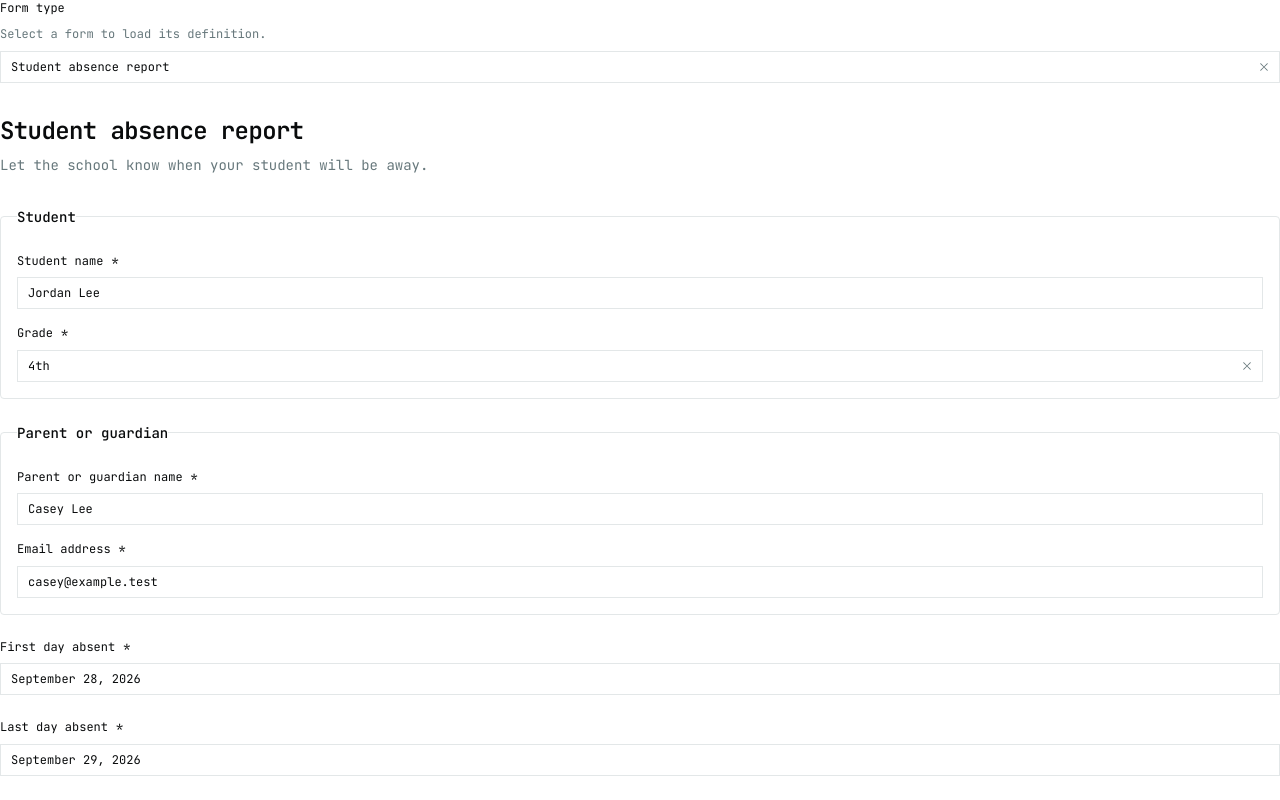
Test case: #FormsPageContent › continues to protect dirty answers when switching forms after a failed submission
Type " Jr." into the field labelled "Student name *". click: (640, 293)
box: 17,277 -> 1263,309
(page scrolled)
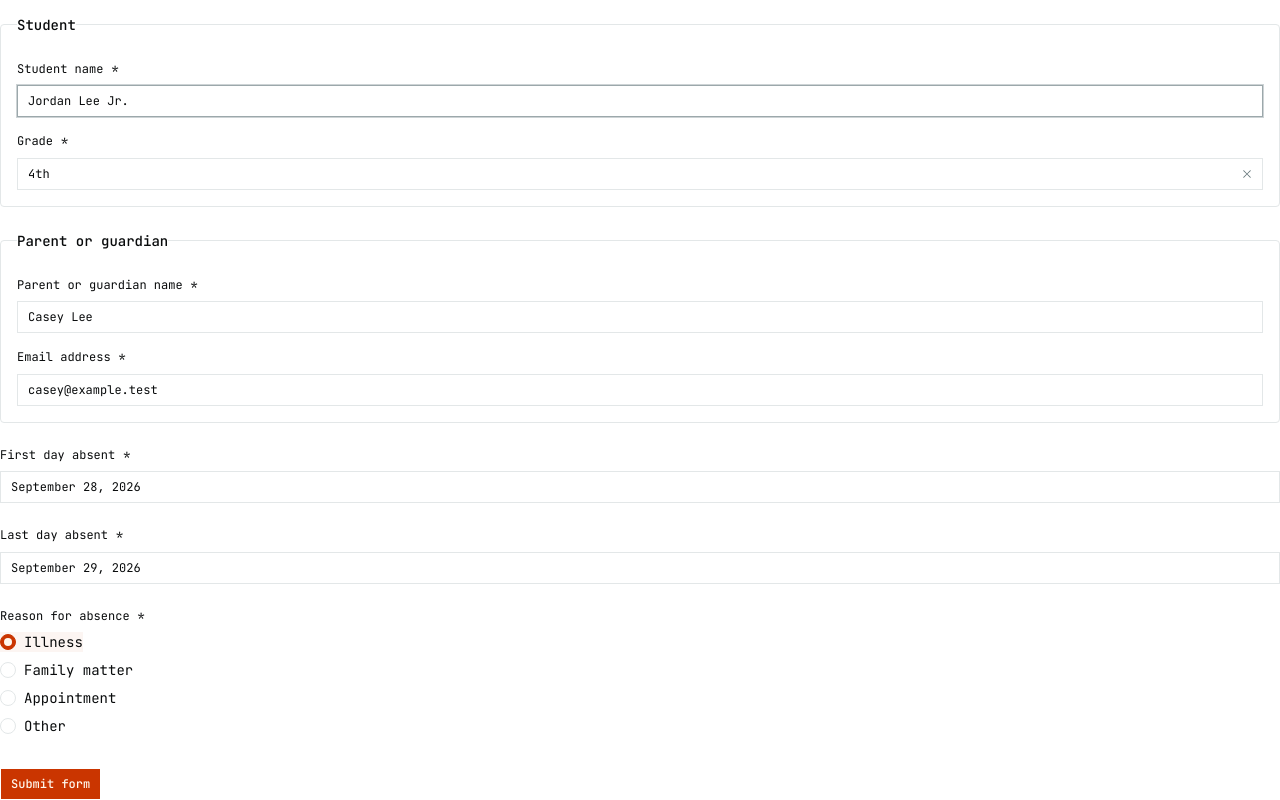
Click the button "Submit form". click: (51, 784)
box: 0,768 -> 101,799
(page scrolled)
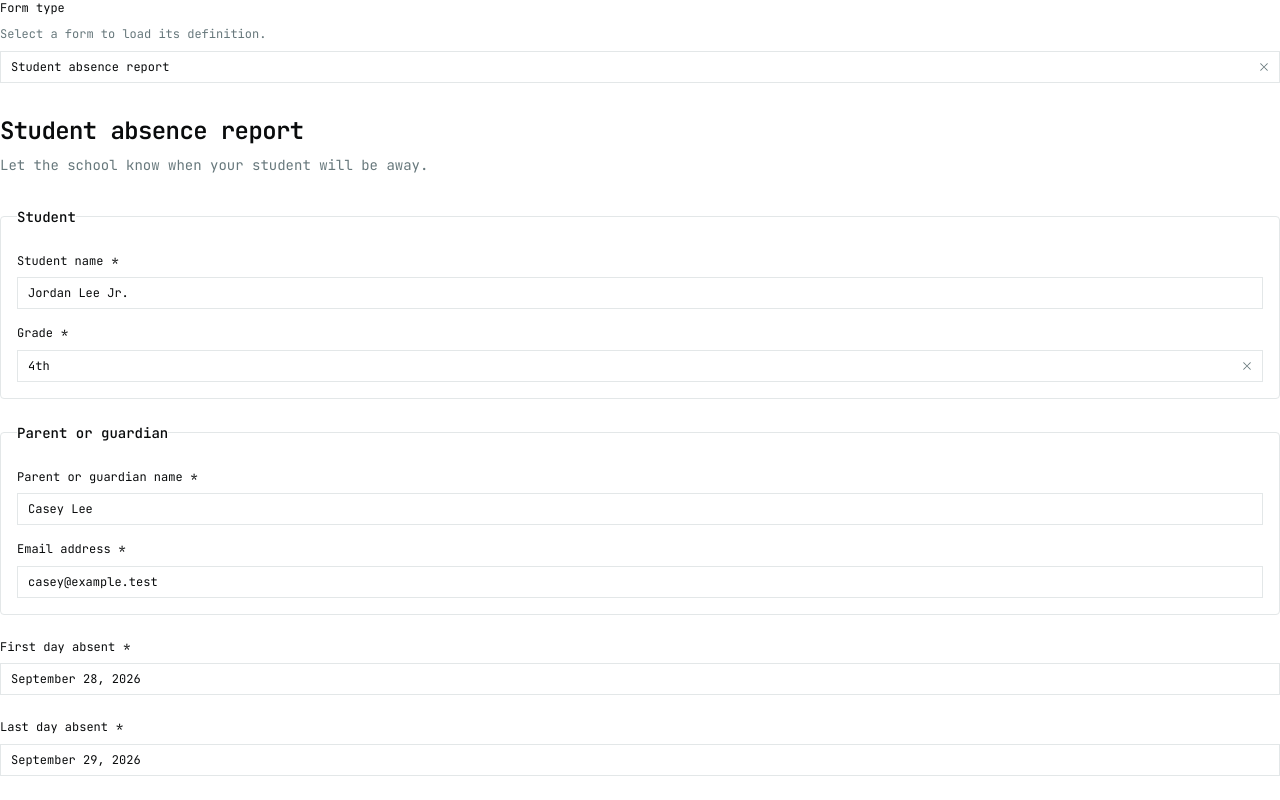
Click the dropdown labelled "Form type". click: (626, 66)
box: 1,50 -> 1252,82
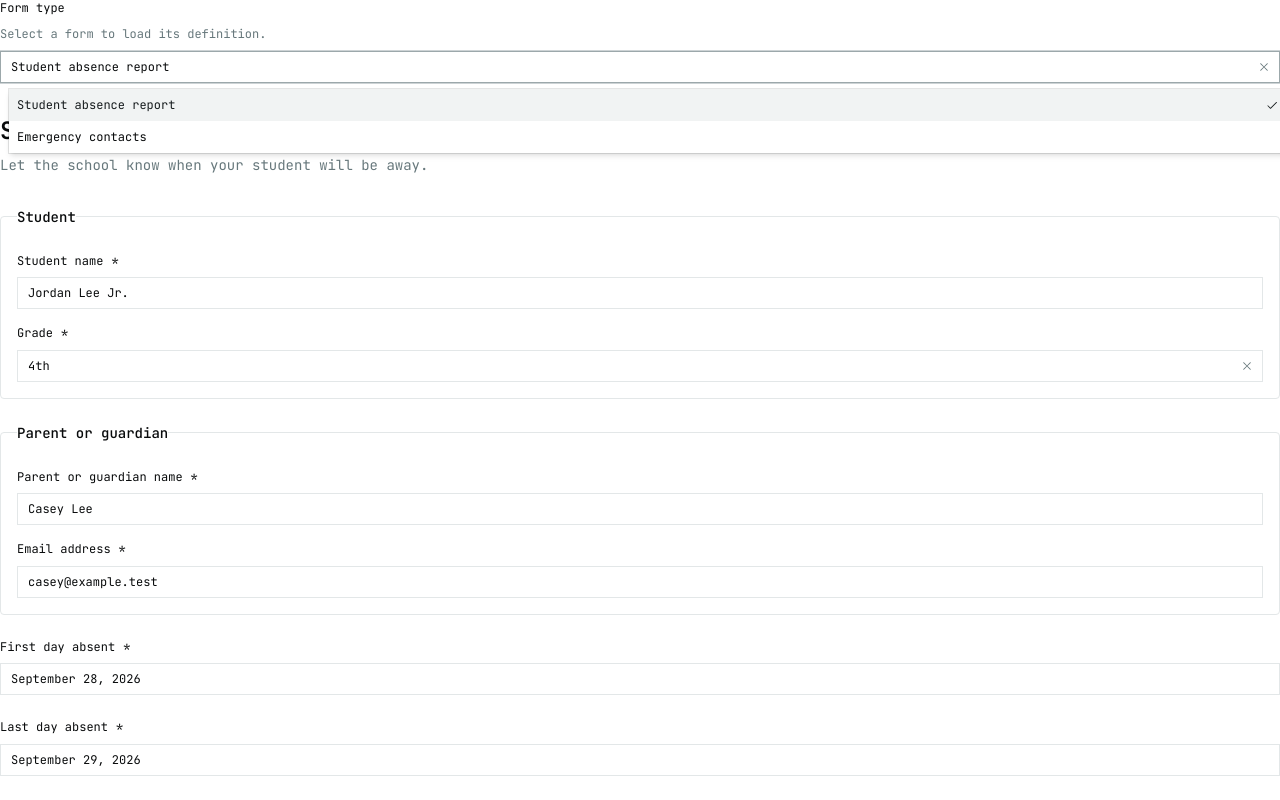
Click the option "Emergency contacts". click: (82, 137)
box: 17,129 -> 147,145
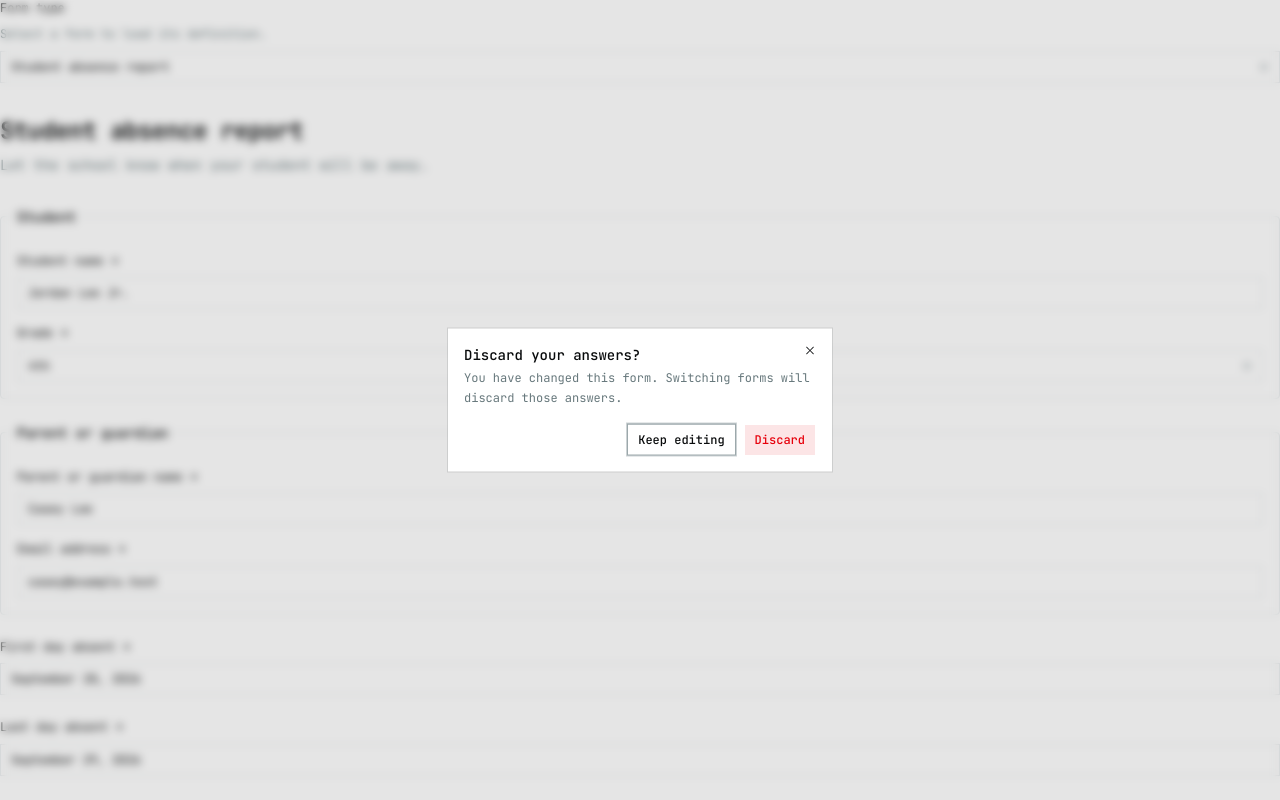
Expected: the dialog shows "Discard your answers?", 464,346 -> 640,364
